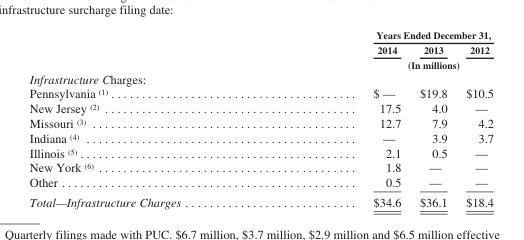table: (28, 28, 492, 208)
table column: (28, 28, 276, 208), (276, 28, 409, 208), (409, 28, 455, 208), (455, 28, 492, 208)
table column header: (28, 28, 492, 70)
table projected row header: (28, 70, 492, 85)
table row: (28, 174, 492, 191), (28, 191, 492, 208), (28, 70, 492, 85), (28, 85, 492, 100), (28, 100, 492, 115), (28, 115, 492, 130), (28, 130, 492, 145), (28, 159, 492, 174), (28, 28, 492, 42), (28, 42, 492, 56), (28, 56, 492, 70), (28, 145, 492, 159)
table spanning cell: (276, 28, 492, 42), (276, 56, 492, 70)
